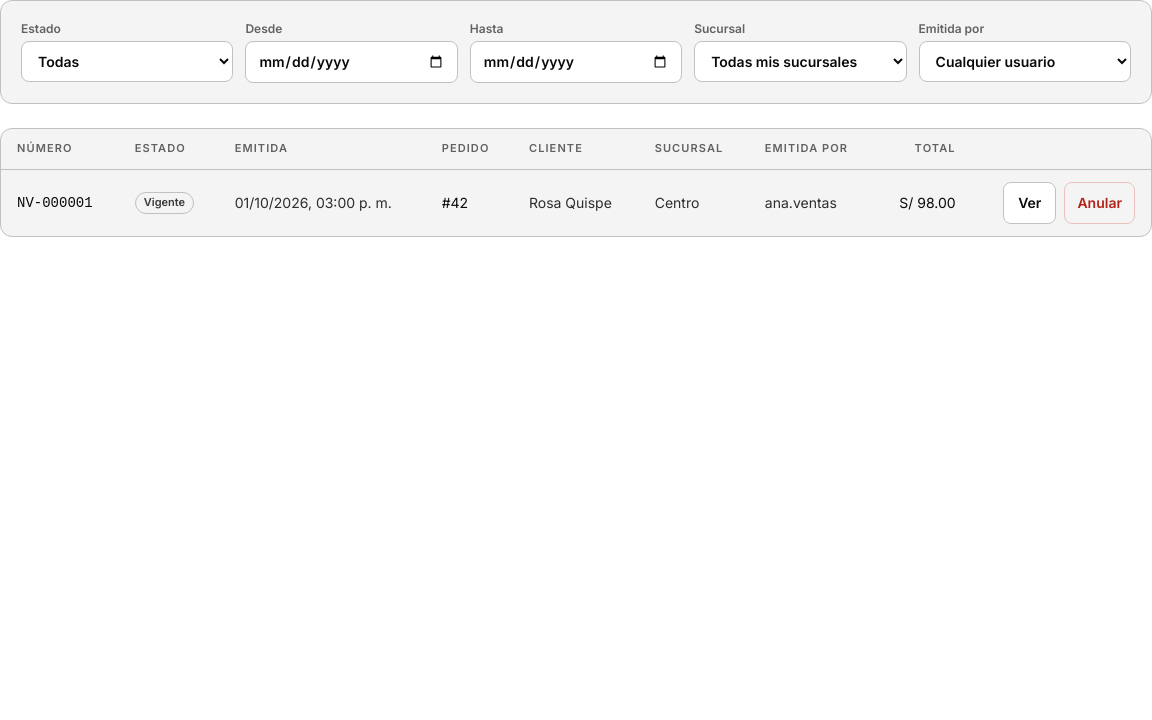
Test: SalesNotesScreen · filtro «Vigentes» › drops a note voided while the list shows only live notes
The image size is (1152, 720).
Expected: the row with test id "sales-note-row-7" is shown, [1,169,1151,236]
Select "Vigentes" in the dropdown labelled "Estado" at coordinates (127, 62), box [21,41,233,82]
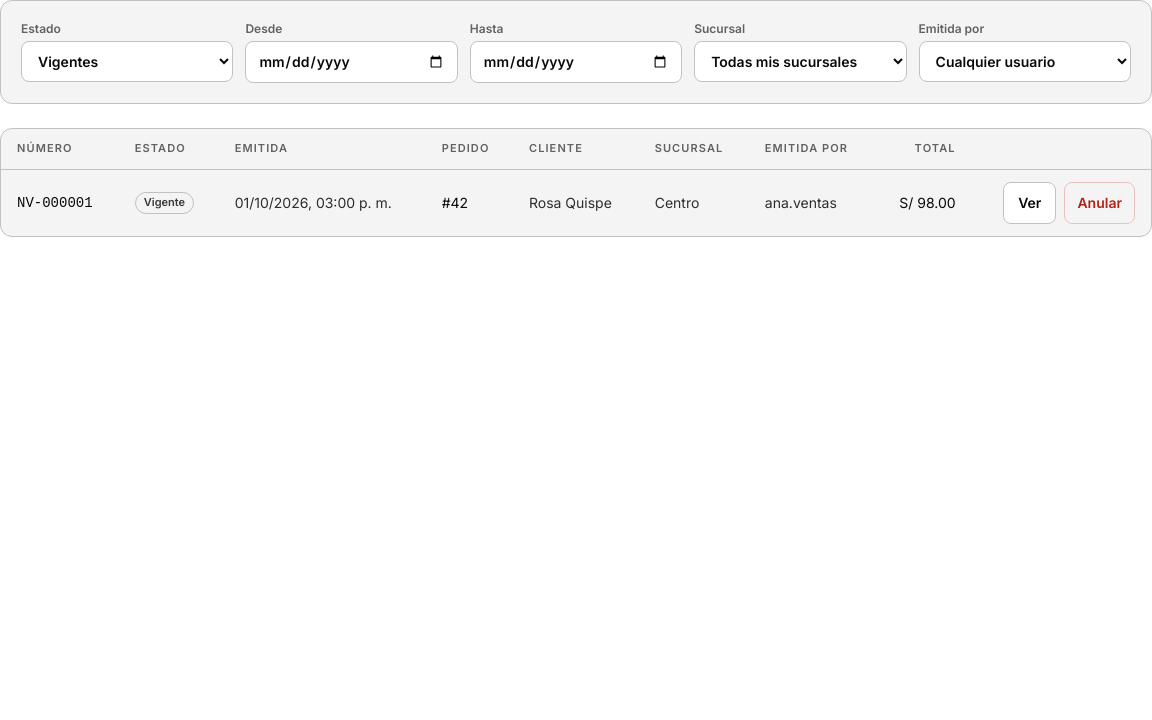
Click the button "Anular".
click(1100, 203)  # box [1064,182,1135,224]
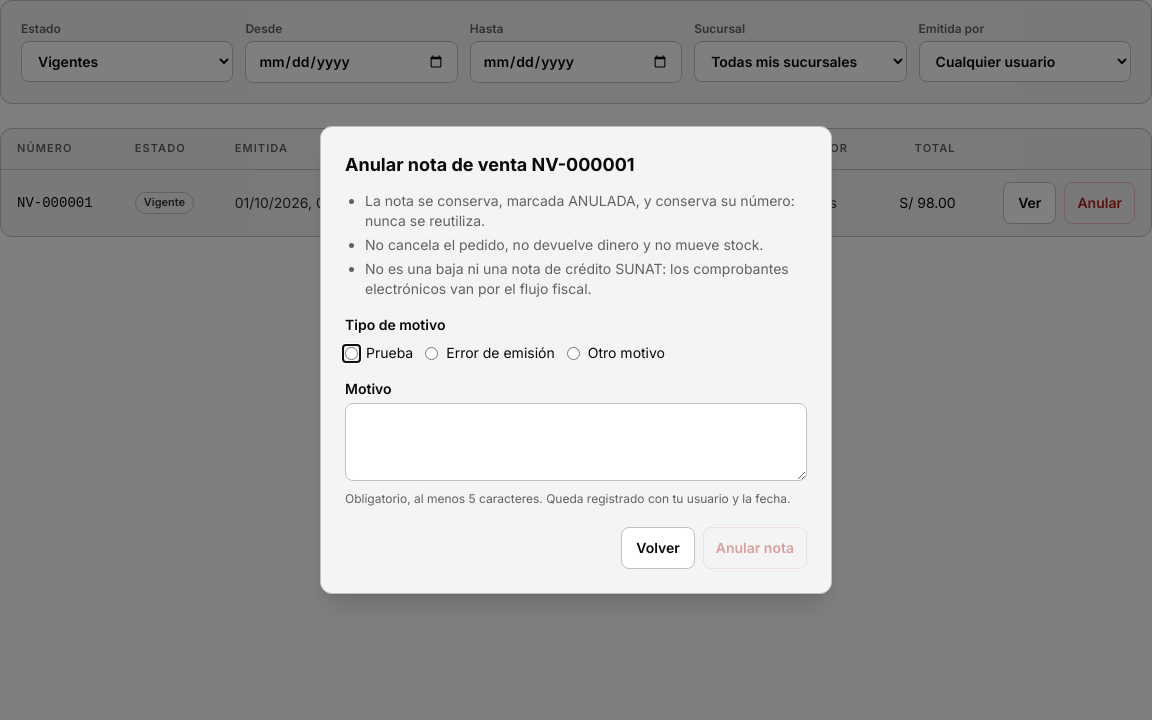
Click the radio button labelled "Prueba".
click(352, 353)  # box [345,346,358,360]
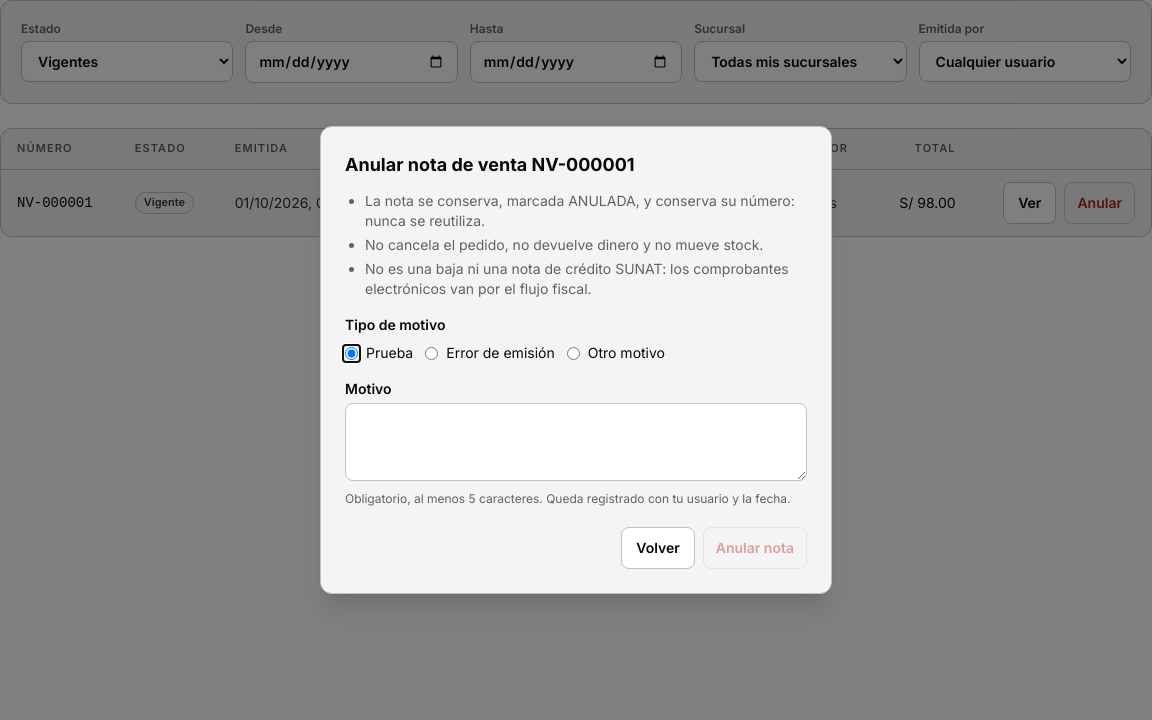
Type "Nota de prueba" into the text box labelled "Motivo".
click(576, 442); type("Nota de prueba")  # box [345,403,807,481]
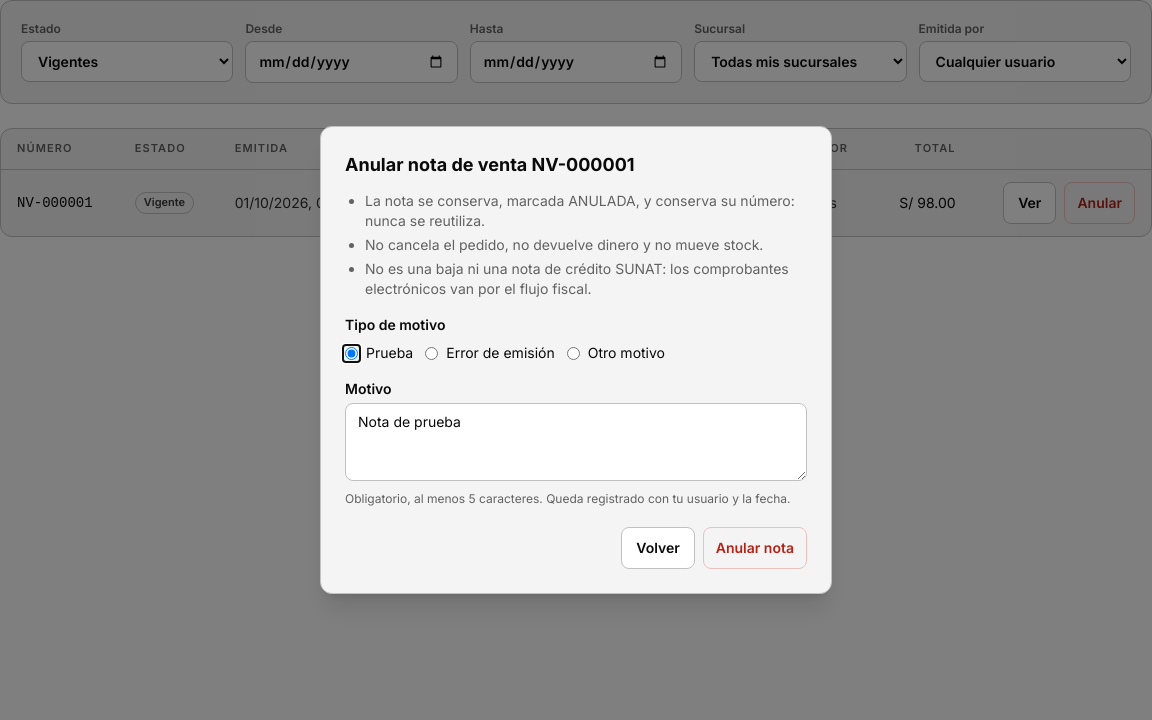
Click the button "Anular nota".
click(755, 548)  # box [703,527,807,569]
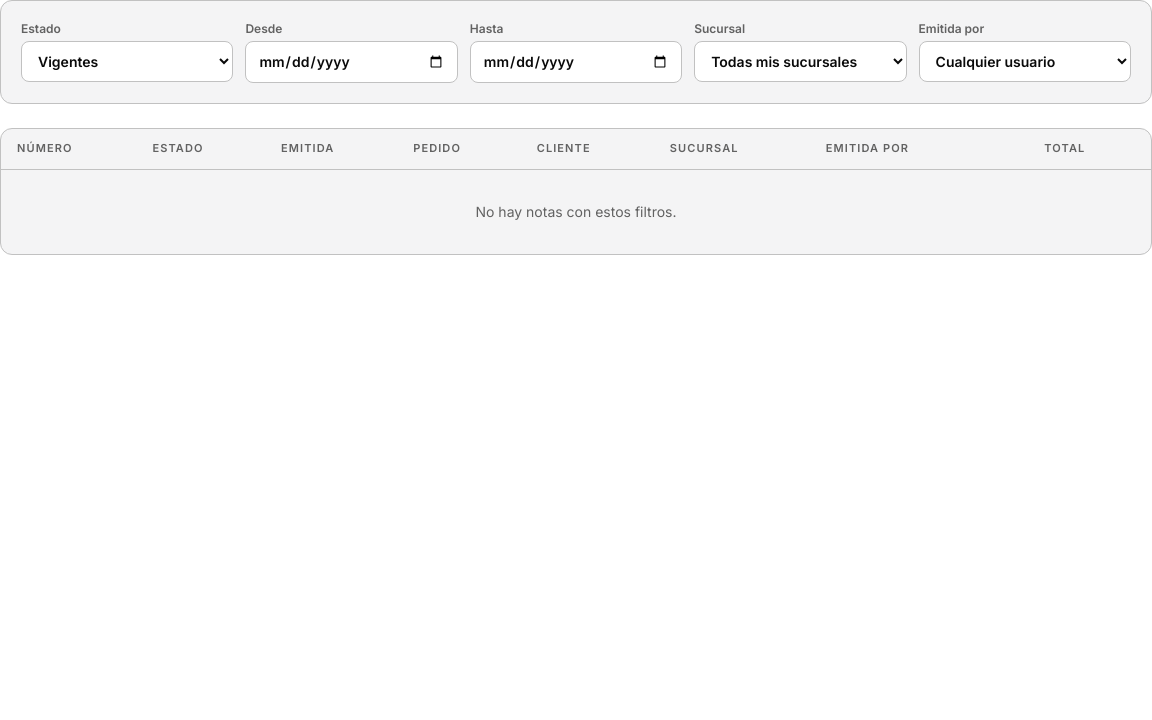
Now the row with test id "sales-note-row-7" is gone
